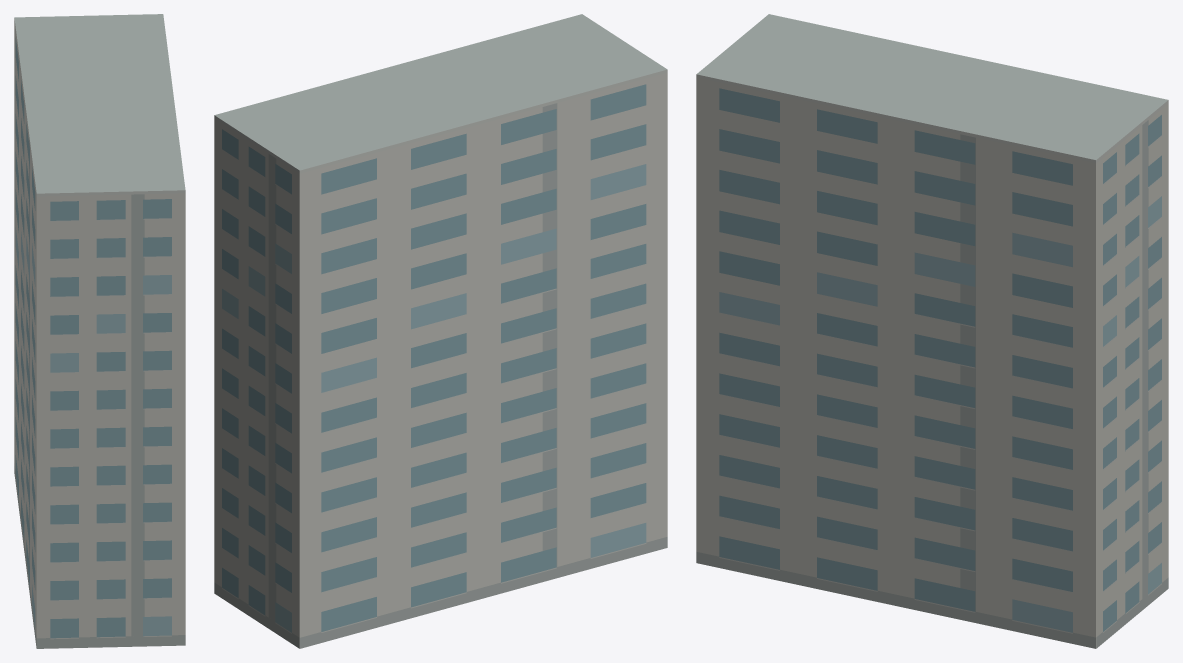
File: residential-30265fb8-510e-42e3-8724-f9c8cd54ad50.glb
3 renders of one model, left to right at view 1: azimuth 30°, elevation 25°; view 2: azimuth 150°, elevation 25°; view 3: azimuth 270°, elevation 25°, orthographic. The views are drawn at different scales.
Visible parts, largest first — view 1: residential-30265fb8-510e-42e3-8724-f9c8cd54ad50.tmp; view 2: residential-30265fb8-510e-42e3-8724-f9c8cd54ad50.tmp; view 3: residential-30265fb8-510e-42e3-8724-f9c8cd54ad50.tmp.
Boxes of the visible parts, left/top/right/bottom form: residential-30265fb8-510e-42e3-8724-f9c8cd54ad50.tmp: left=14, top=14, right=185, bottom=648; residential-30265fb8-510e-42e3-8724-f9c8cd54ad50.tmp: left=214, top=14, right=667, bottom=648; residential-30265fb8-510e-42e3-8724-f9c8cd54ad50.tmp: left=696, top=14, right=1168, bottom=648.
Size of the model in its own units: 23.49 by 36.6 by 32.06.
